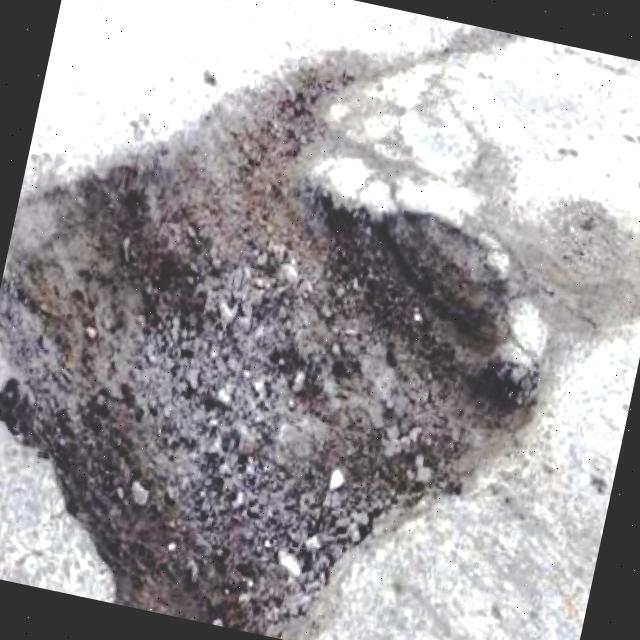pothole: (0, 65, 591, 640)
